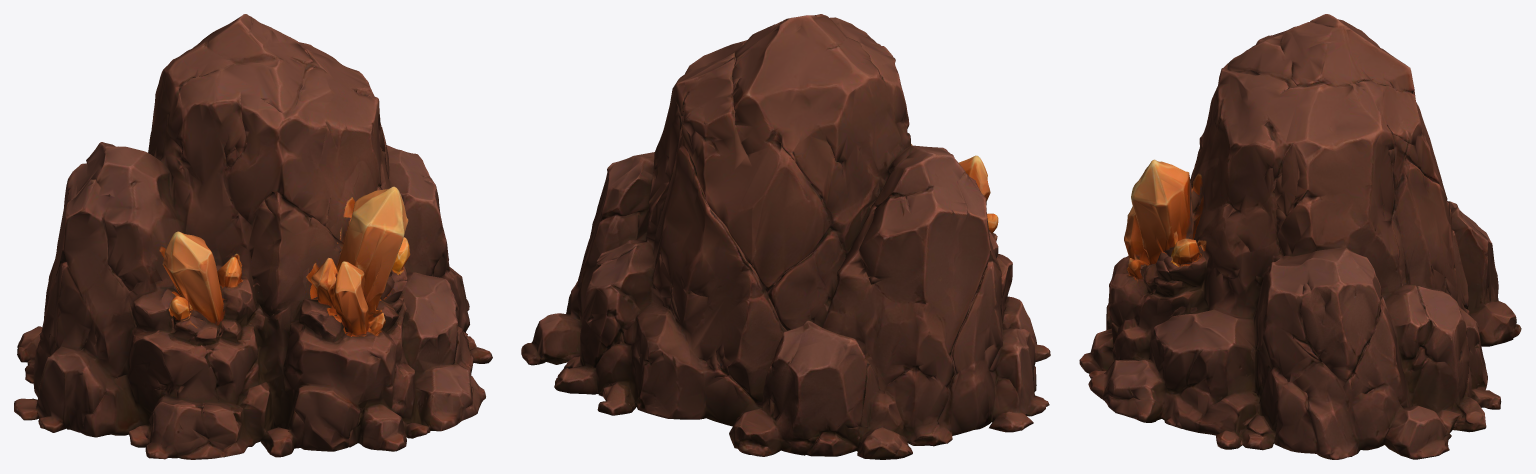
Rendered from grupo_de_cristales.glb.
3 renders of one model, left to right at view 1: azimuth 30°, elevation 25°; view 2: azimuth 150°, elevation 25°; view 3: azimuth 270°, elevation 25°, orthographic. The views are drawn at different scales.
Visible parts, largest first — view 1: grupo_de_cristales; view 2: grupo_de_cristales; view 3: grupo_de_cristales.
Part boxes in pixels (x1=…): grupo_de_cristales: x1=14, y1=14, x2=492, y2=459; grupo_de_cristales: x1=521, y1=14, x2=1050, y2=459; grupo_de_cristales: x1=1079, y1=14, x2=1521, y2=459.
Size of what is drawn, in the model's own units: 1.6 by 1.2 by 1.41.
Materials: 1 (1 with a texture image).
